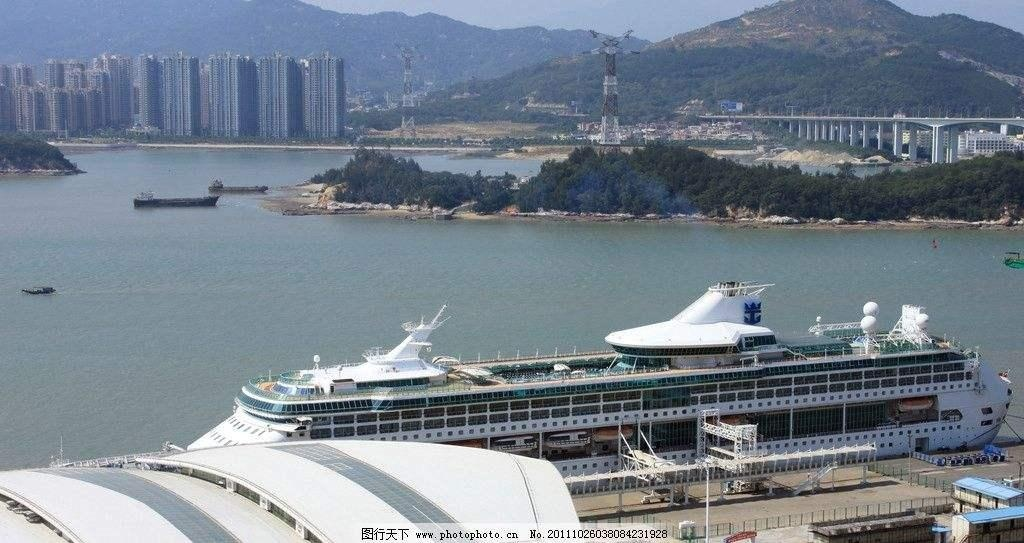otherboat: (129, 187, 219, 211), (207, 180, 270, 195)
youlun: (200, 269, 1015, 468)
